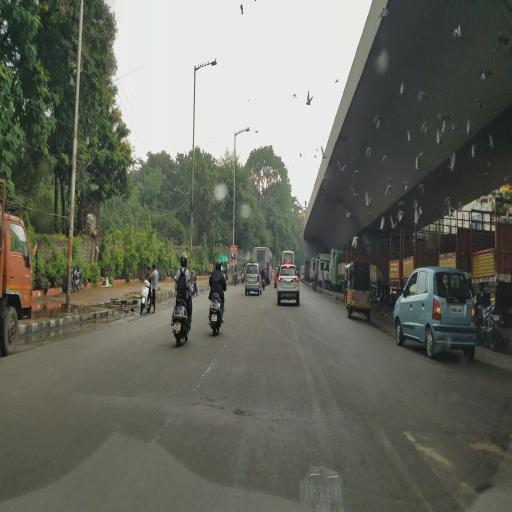street_light_0: (189, 50, 219, 83), (232, 115, 254, 144)
